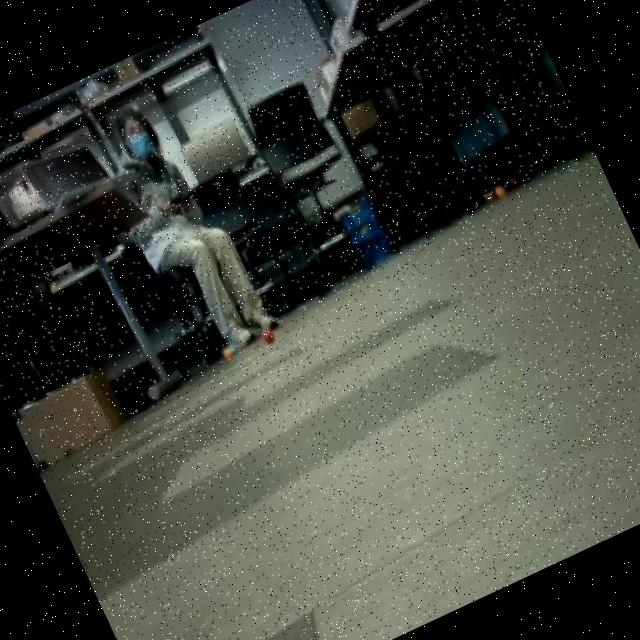ping-pong-ball: (490, 178, 512, 206), (216, 337, 238, 362), (256, 323, 278, 348)
